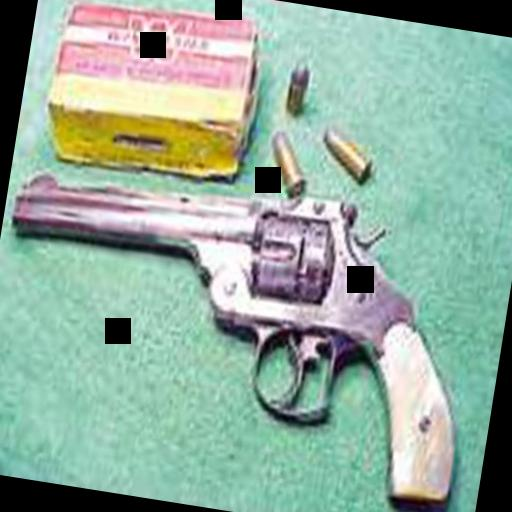Handgun: (0, 149, 493, 511)
